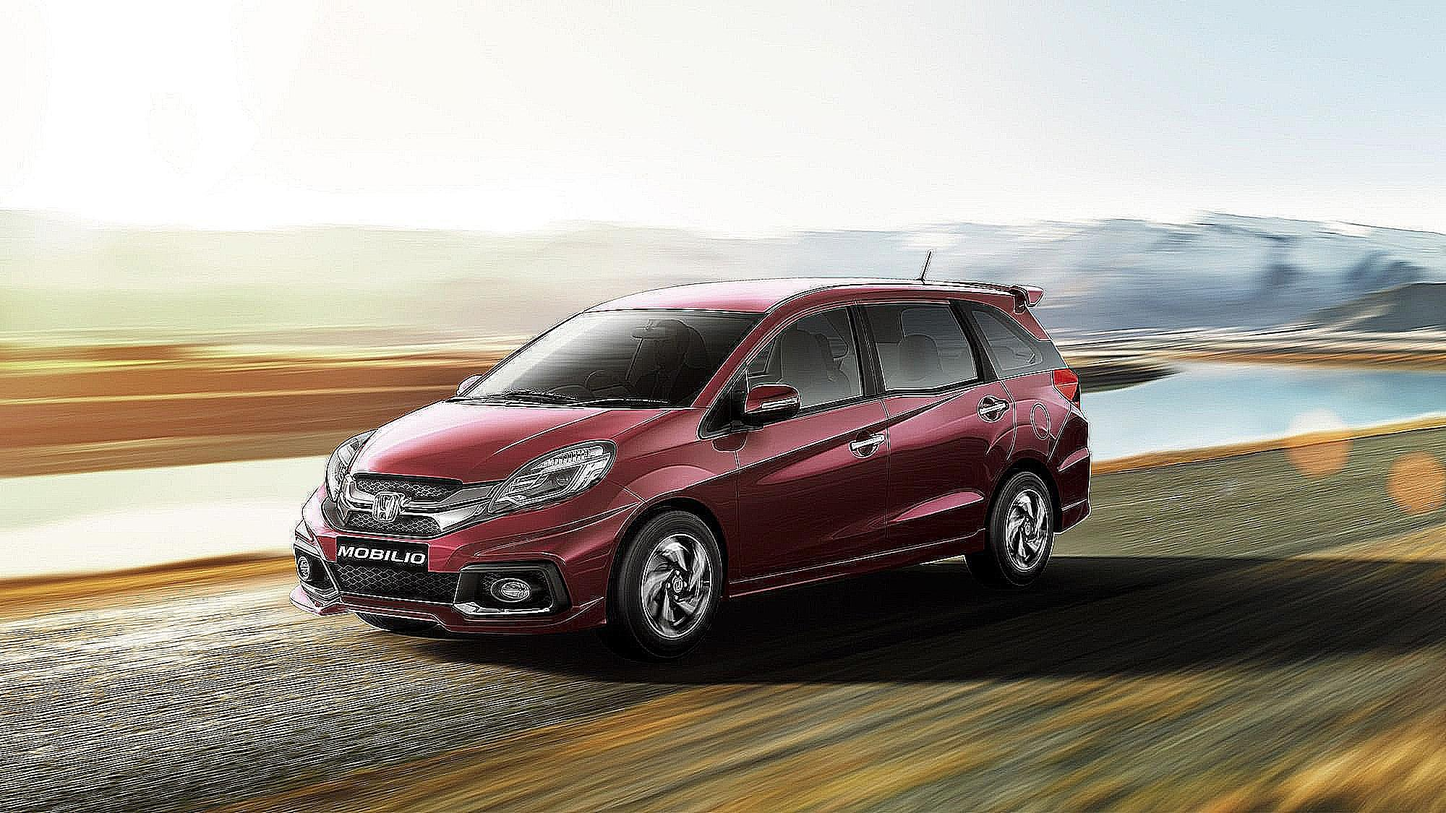Car hood: (337, 400, 691, 481)
Fender - -F-L-: (603, 390, 753, 598)
Fender - -R-L-: (959, 358, 1075, 499)
Front bumper: (295, 482, 651, 645)
Headlight - -L-: (474, 440, 617, 516)
Headlight - -R-: (325, 425, 377, 522)
Passenger-s door - -F-L-: (720, 259, 893, 611)
Passenger-s door - -R-L-: (851, 254, 1014, 586)
Rear bumper: (1044, 405, 1097, 532)
Rear light - -L-: (1053, 364, 1081, 412)
Side bumper - -L-: (728, 500, 1014, 632)
Side mirror - -L-: (723, 378, 801, 441)
